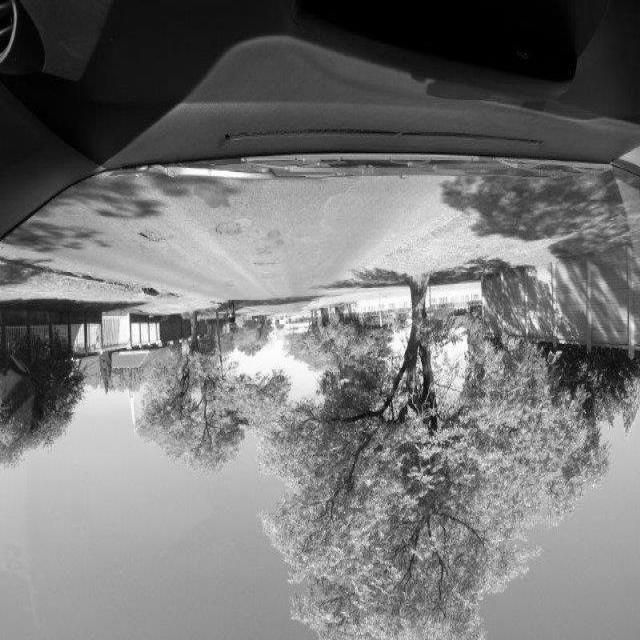lubang: (139, 222, 172, 252), (208, 218, 252, 240)
